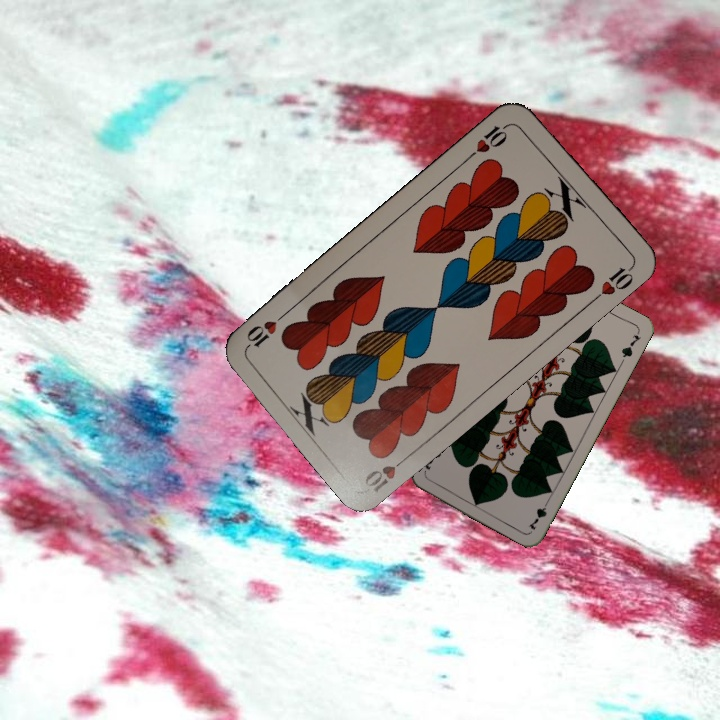G7: (524, 495, 552, 532)
H10: (360, 450, 414, 496), (464, 119, 514, 162)
